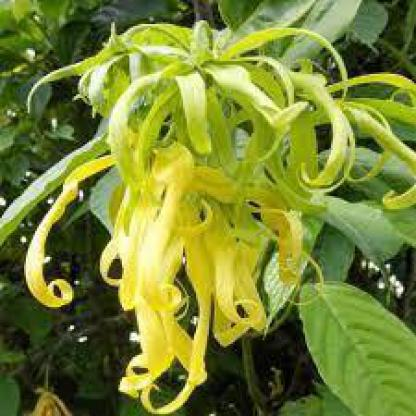Kenanga: (38, 24, 356, 364)
